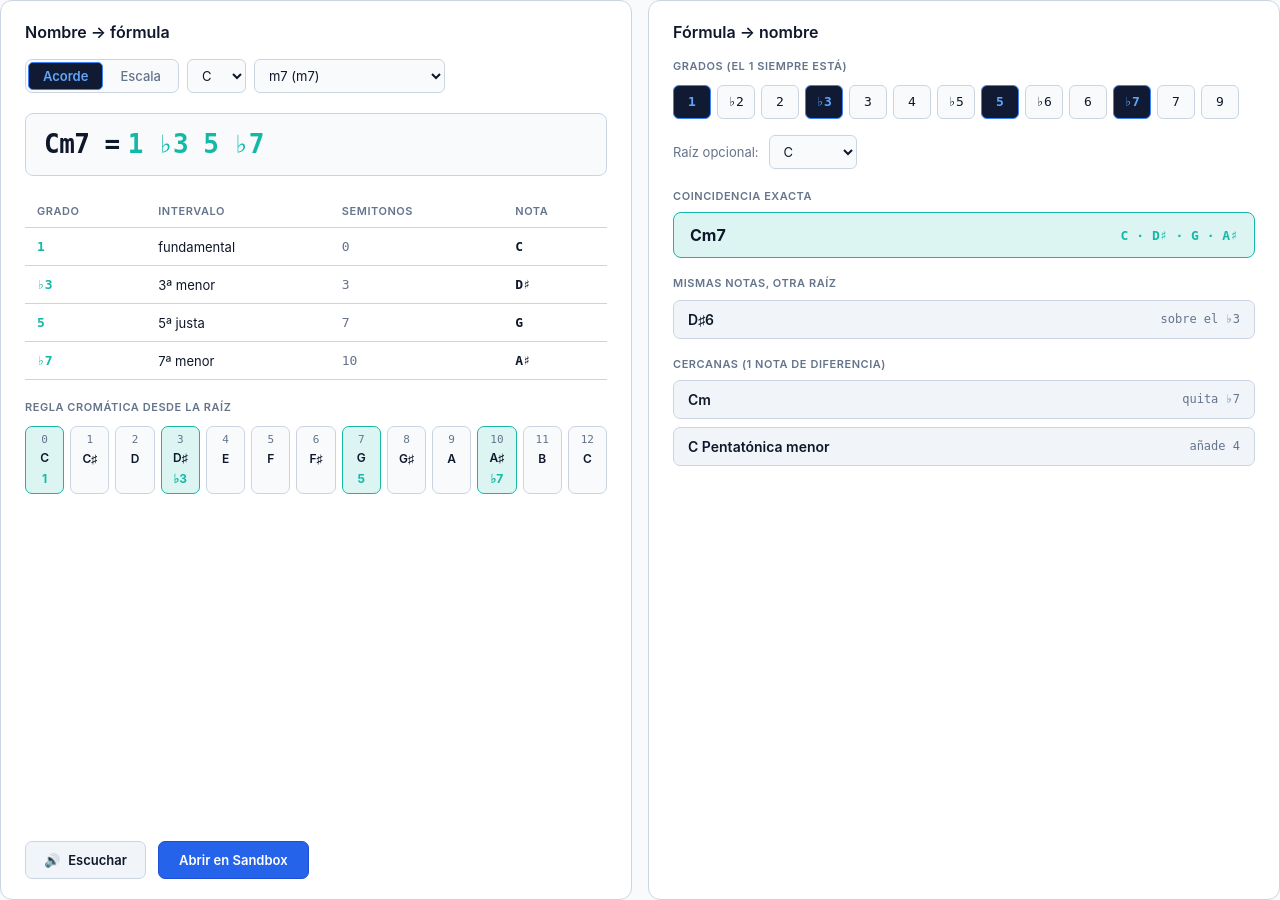
FormulasView (Hito A6) › (c) Búsqueda inversa con acordes de 9ª [0, 4, 7, 10, 14] y maj7 [0, 4, 7, 11]
The image size is (1280, 900).
Click the button "♭3". click: (824, 102)
box: x1=805 y1=85 x2=843 y2=119
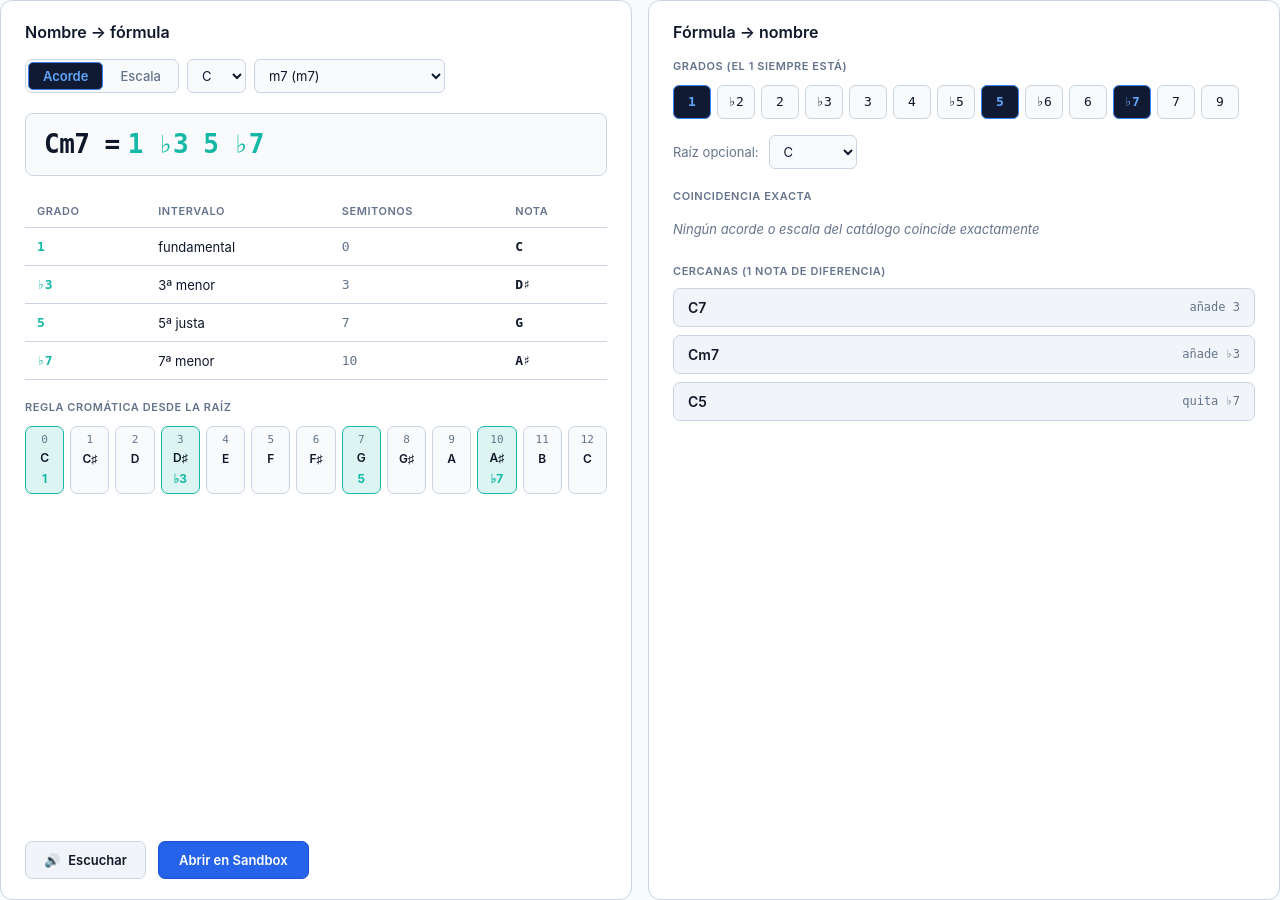
Click the button "3". click: (868, 102)
box: x1=849 y1=85 x2=887 y2=119
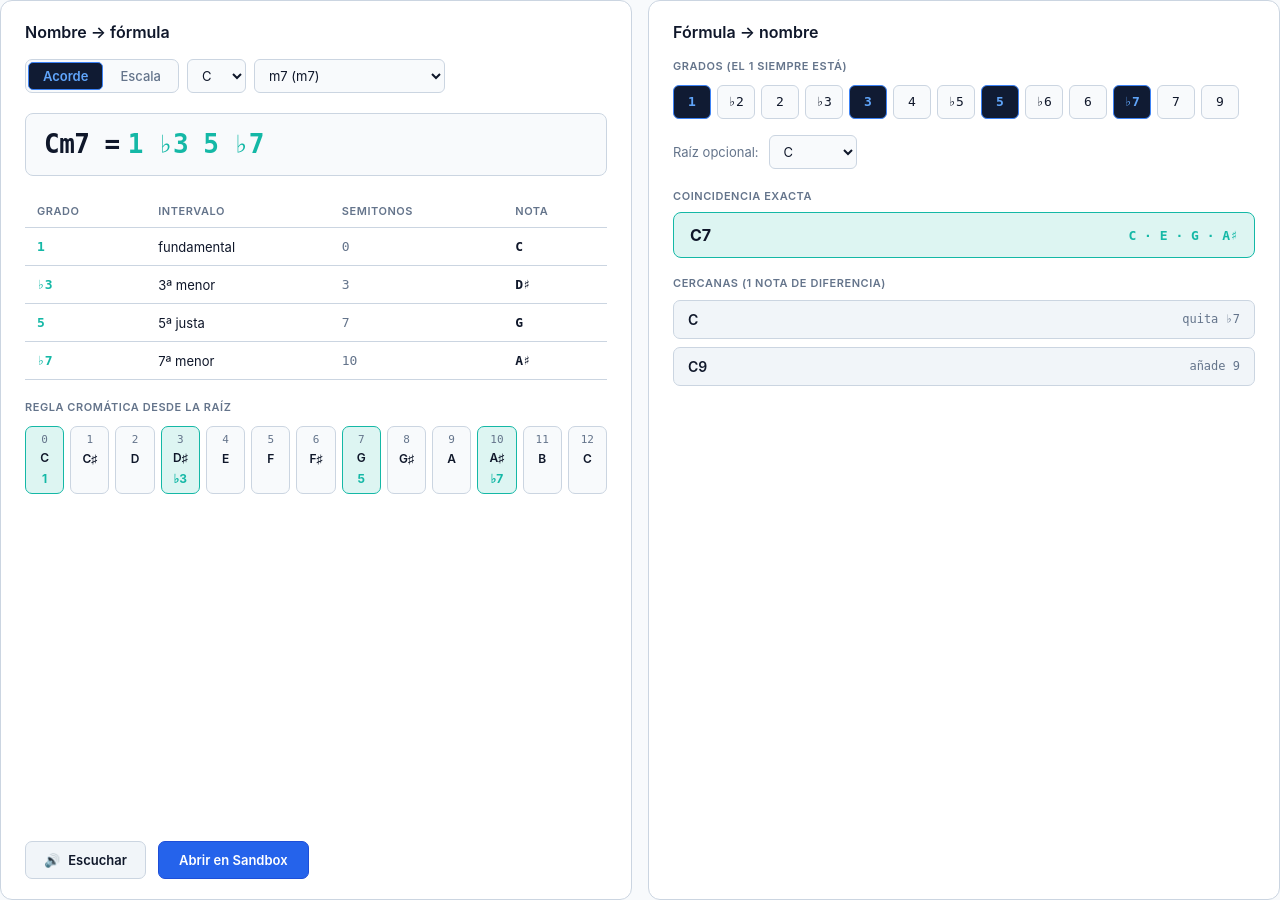
Click the button "9". click: (1220, 102)
box: x1=1201 y1=85 x2=1239 y2=119
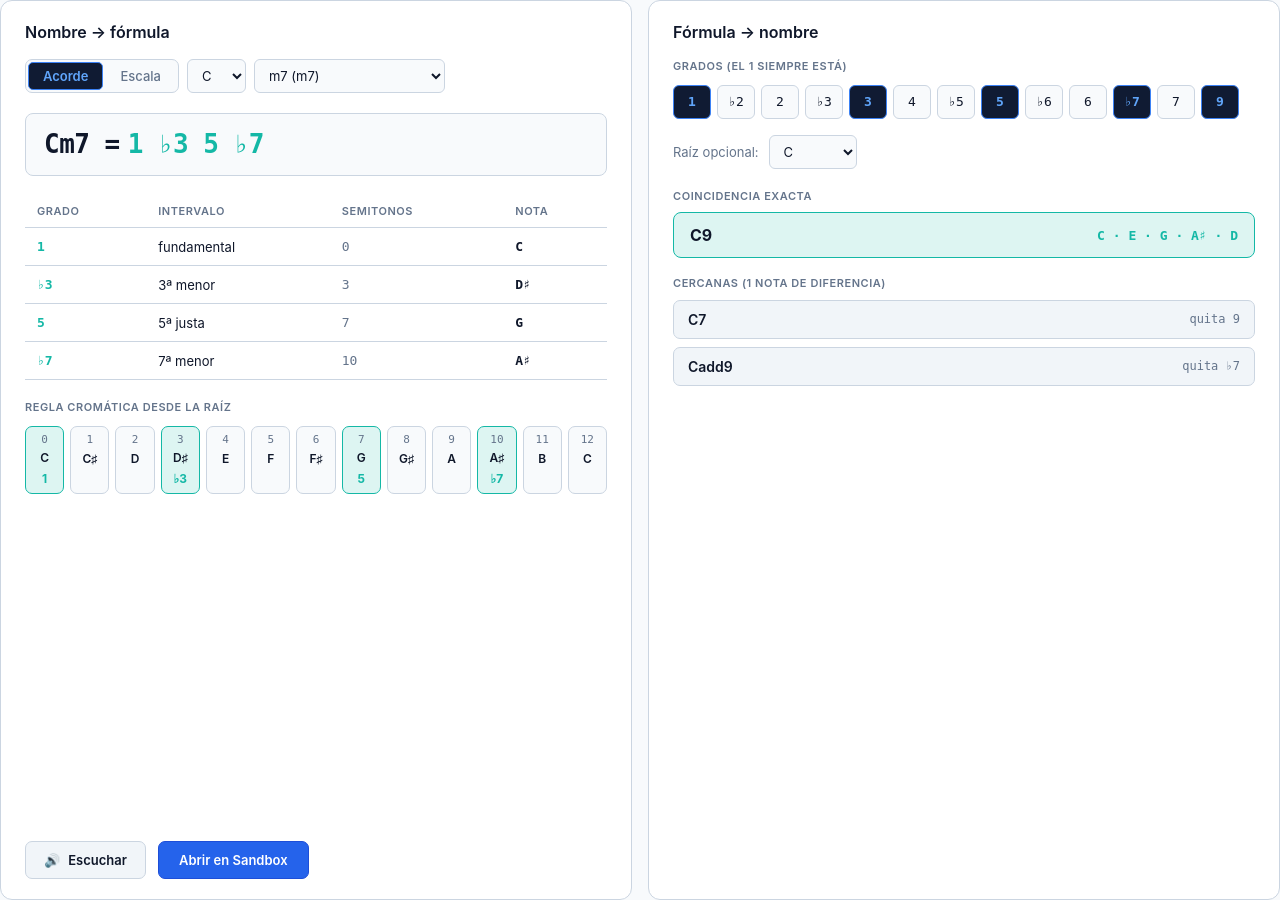
Expected: the button named "Seleccionar coincidencia exacta C9" is shown, x1=673 y1=212 x2=1255 y2=258
Expected: the button with aria-label "Seleccionar candidata cercana C7" shows "quita 9", x1=673 y1=300 x2=1255 y2=339
Click the button "9". click: (1220, 102)
box: x1=1201 y1=85 x2=1239 y2=119
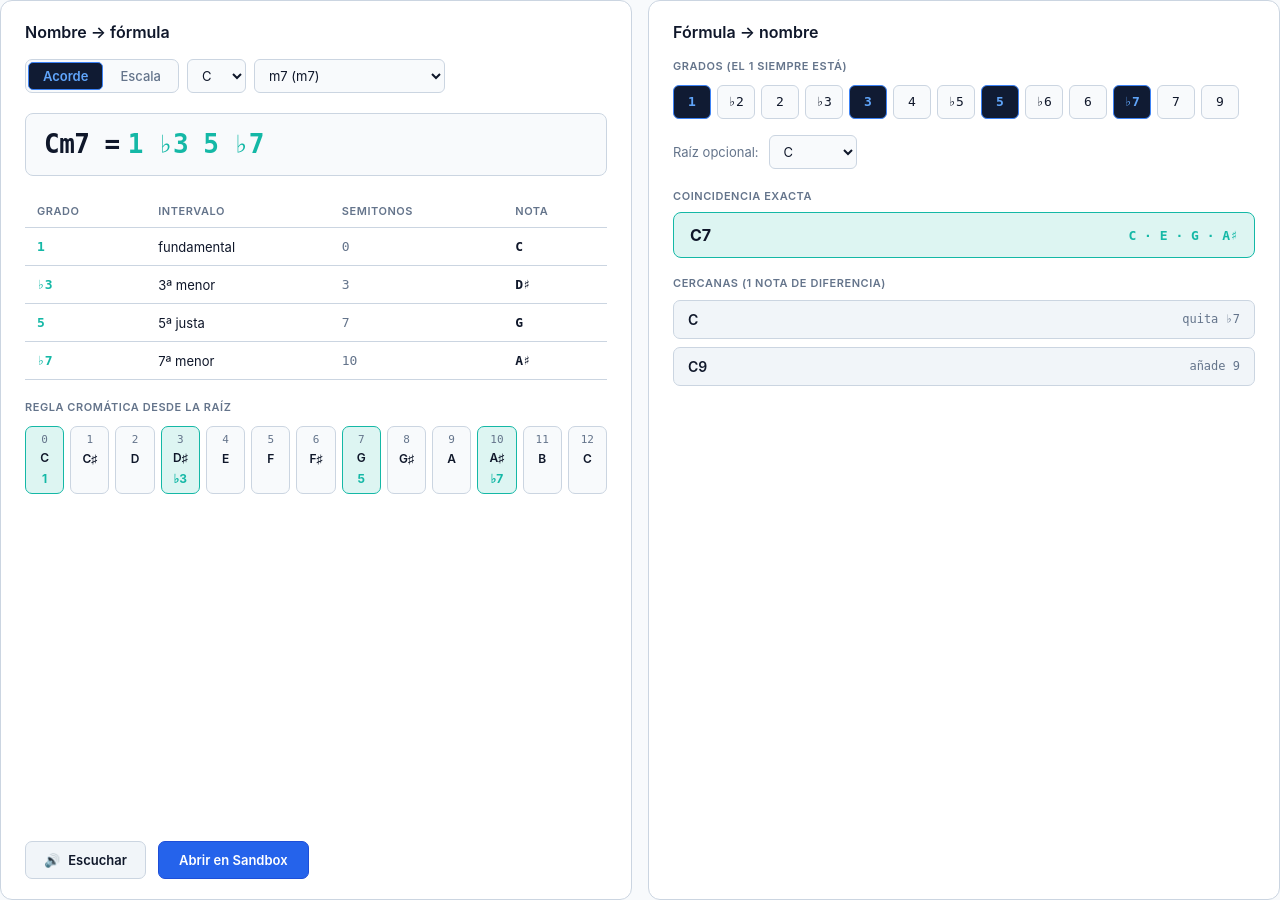
Click the button "♭7". click: (1132, 102)
box: x1=1113 y1=85 x2=1151 y2=119
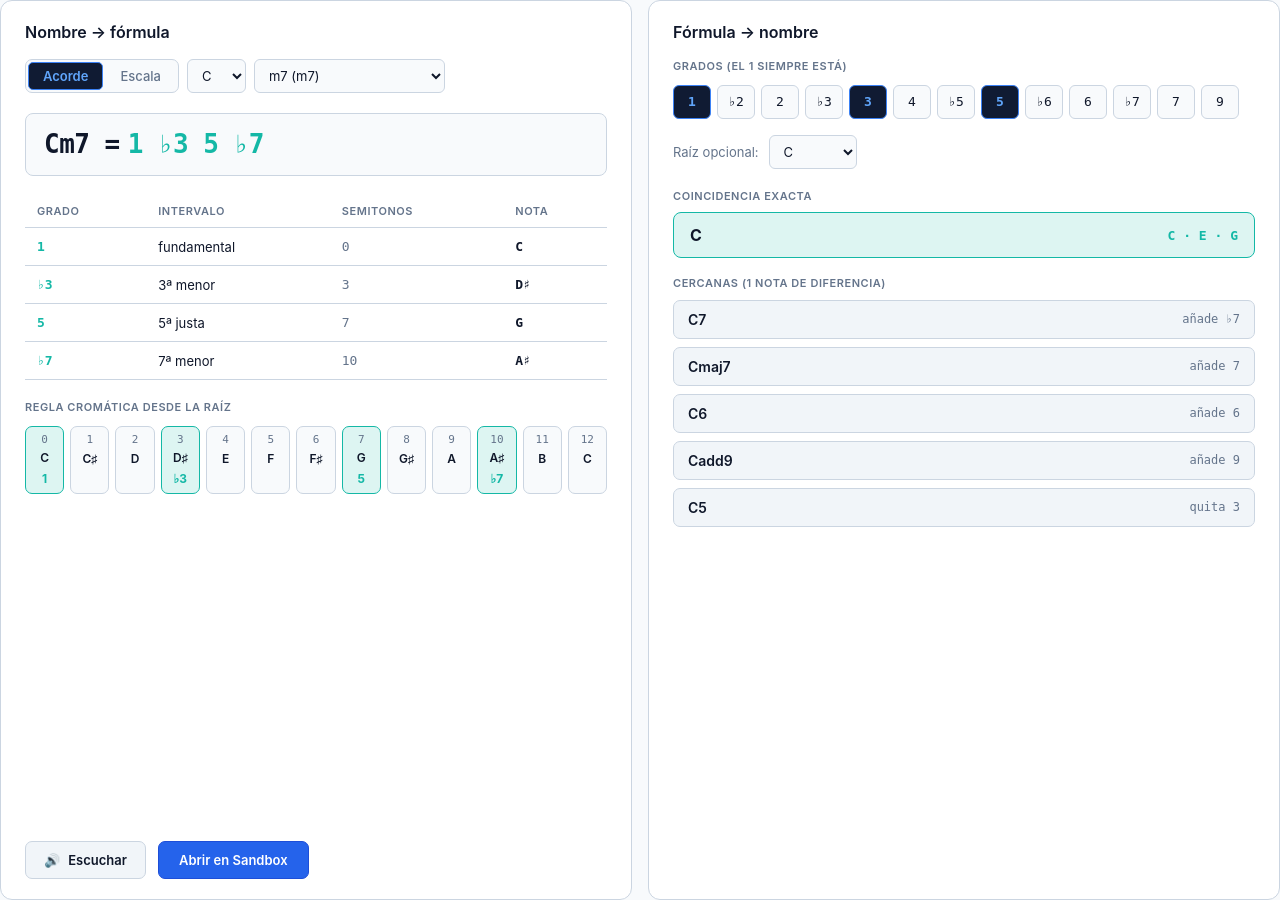
Click the button "7". click: (1176, 102)
box: x1=1157 y1=85 x2=1195 y2=119
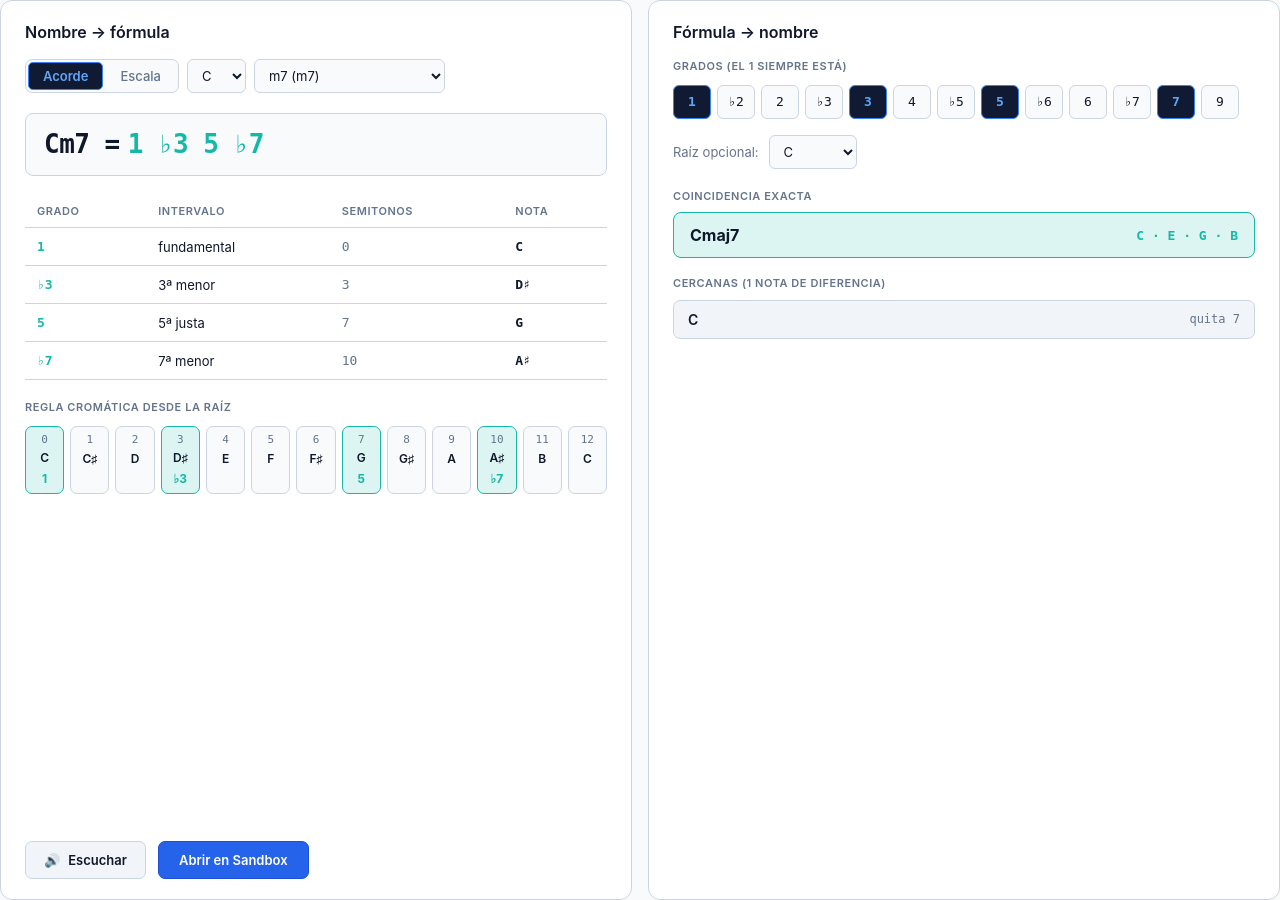
Expected: the button with aria-label "Seleccionar coincidencia exacta Cmaj7" is shown, x1=673 y1=212 x2=1255 y2=258
Expected: the button with aria-label "Seleccionar candidata cercana C" shows "quita 7", x1=673 y1=300 x2=1255 y2=339
